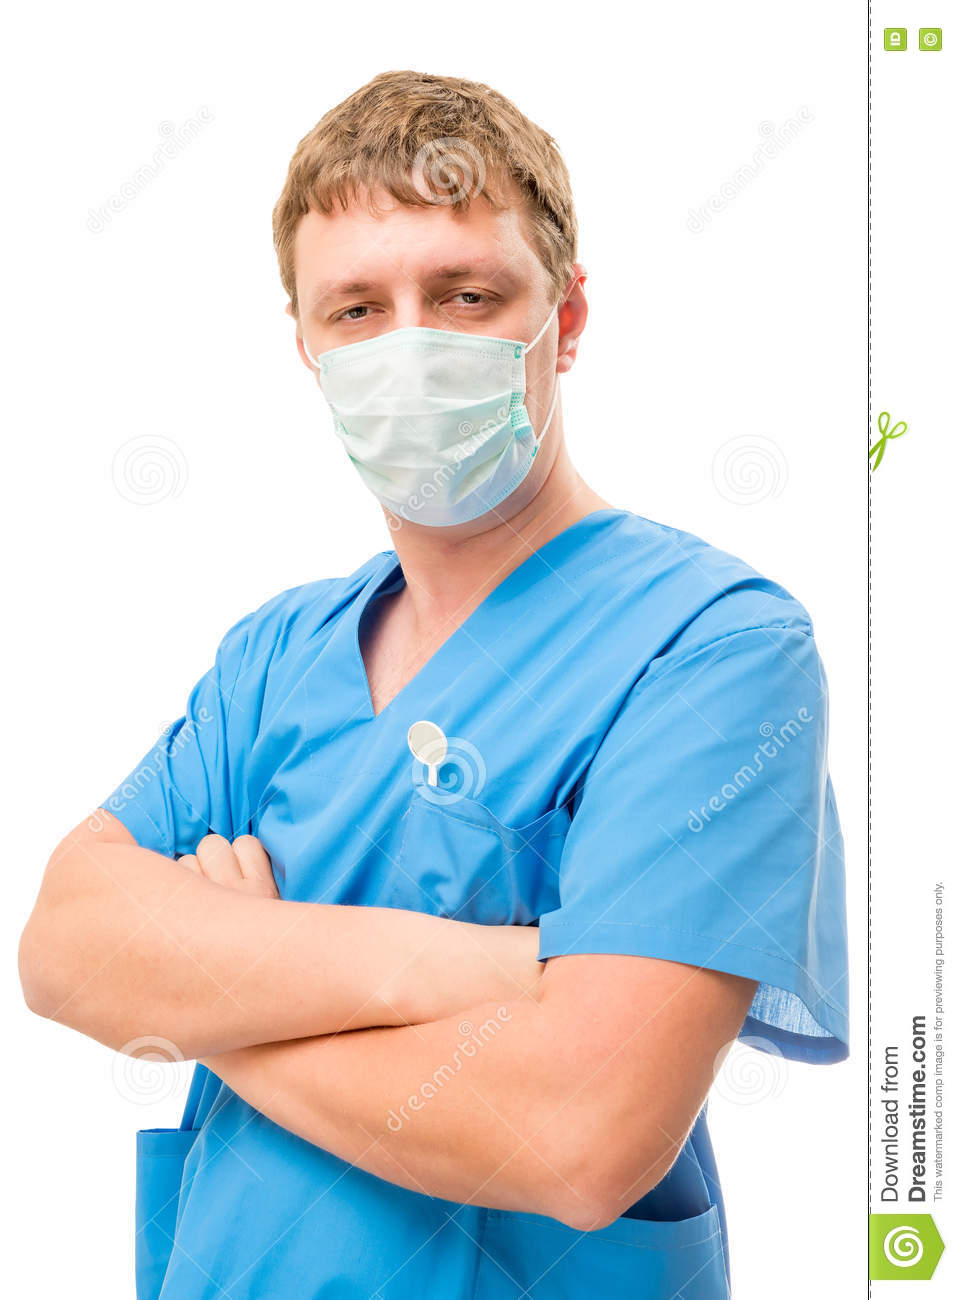mask: (303, 325, 591, 529)
